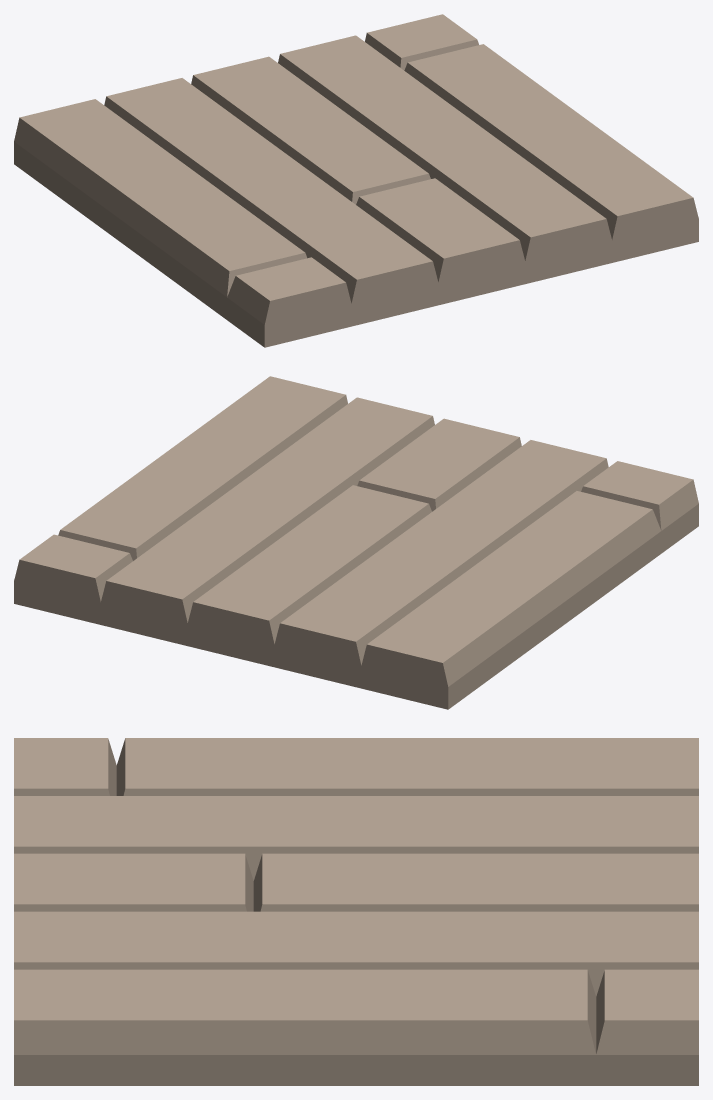
Rendered from Wood_Floor_Straight_4.glb.
3 renders of one model, top to bottom at view 1: azimuth 30°, elevation 25°; view 2: azimuth 150°, elevation 25°; view 3: azimuth 270°, elevation 25°, orthographic. The views are drawn at different scales.
Parts seen in each view (by area): view 1: object1; view 2: object1; view 3: object1.
Part boxes in pixels (x1,y1,x2,y2): object1: (14, 14, 698, 347); object1: (14, 376, 698, 709); object1: (14, 738, 698, 1085).
Bounding box in the file's own units: 1 × 0.1 × 1.
